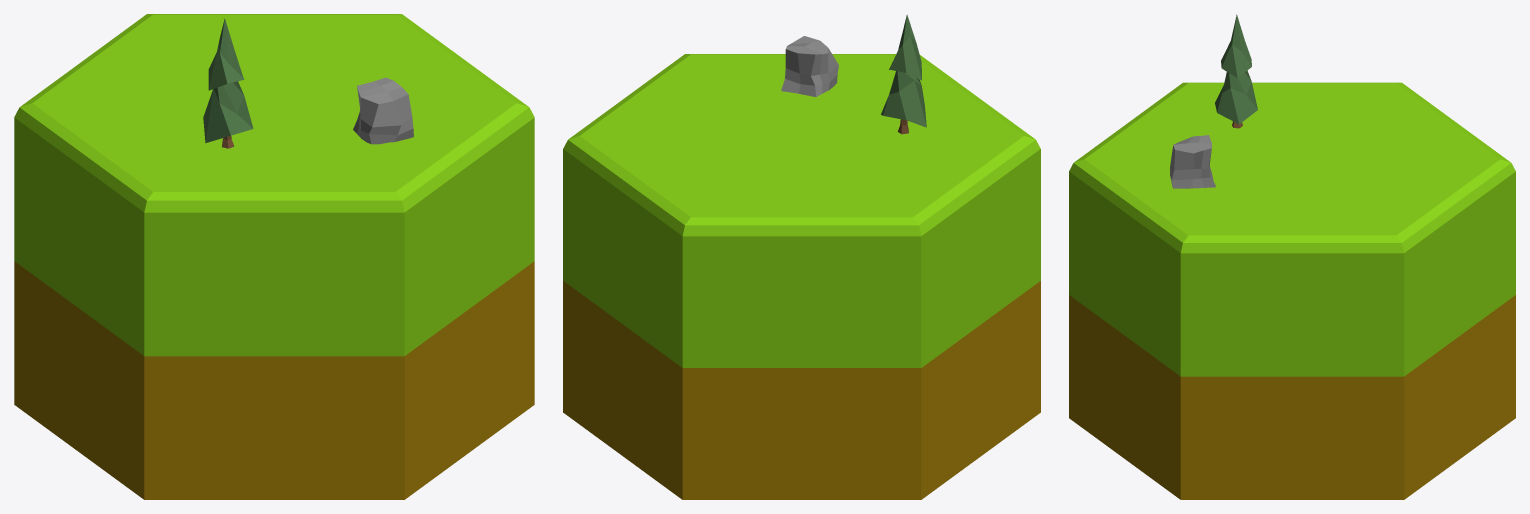
The model's file is Hex Tile SingleTreeAndRock 02.glb.
3 views of the same model, side by side, from view 1: azimuth 30°, elevation 25°; view 2: azimuth 150°, elevation 25°; view 3: azimuth 270°, elevation 25° (orthographic). The views are drawn at different scales.
Visible parts, largest first — view 1: Hex.Tile.SingleTreeAndRock; view 2: Hex.Tile.SingleTreeAndRock; view 3: Hex.Tile.SingleTreeAndRock.
Boxes of the visible parts, bbox=[...] form: Hex.Tile.SingleTreeAndRock: bbox=[14, 14, 534, 499]; Hex.Tile.SingleTreeAndRock: bbox=[563, 14, 1040, 499]; Hex.Tile.SingleTreeAndRock: bbox=[1069, 14, 1515, 499].
Bounding box in the file's own units: 1.73 × 1.83 × 2.
Materials: 1 (1 with a texture image).
